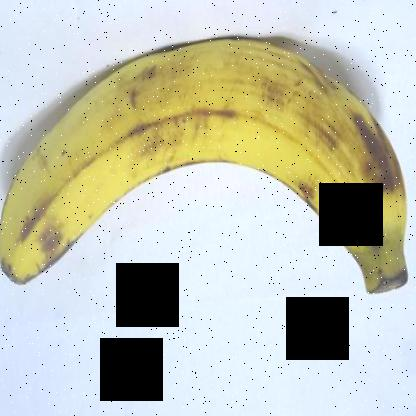ripe: (1, 26, 408, 307)
